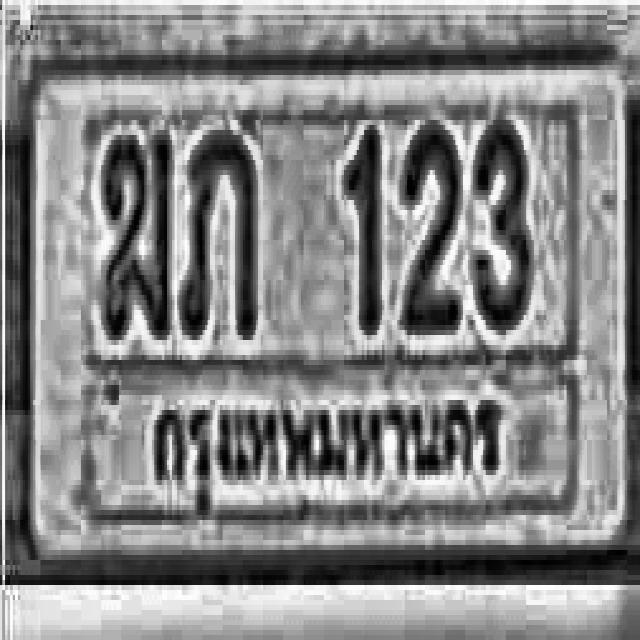license-plate: (31, 51, 632, 564)
